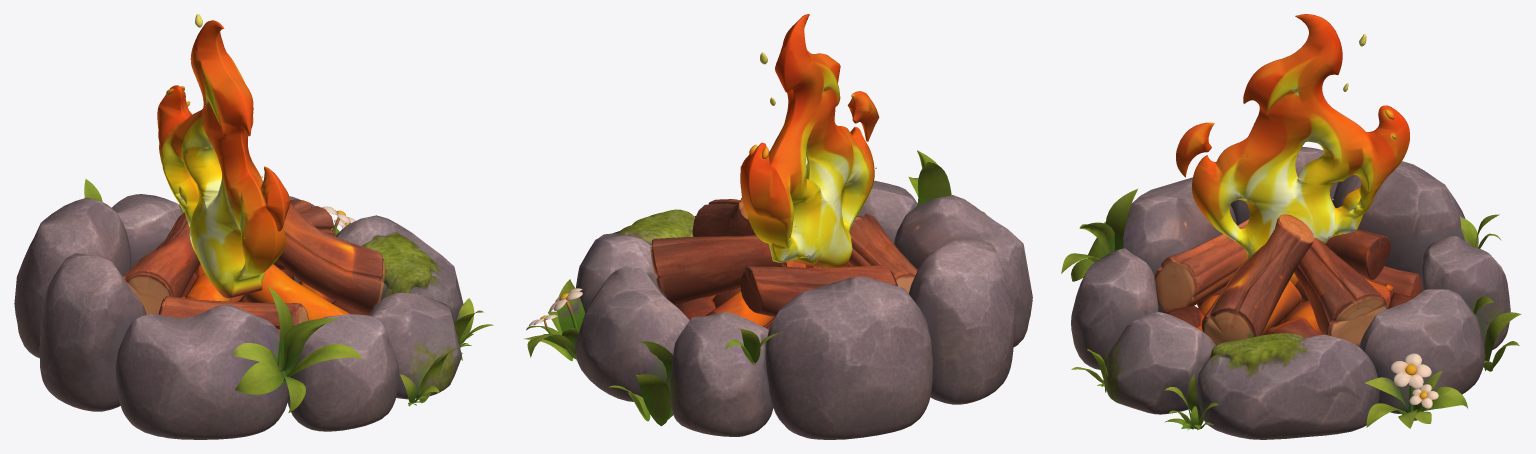
File: C15_campfire_lit.fbx
3 renders of one model, left to right at view 1: azimuth 30°, elevation 25°; view 2: azimuth 150°, elevation 25°; view 3: azimuth 270°, elevation 25°, orthographic. The views are drawn at different scales.
Visible parts, largest first — view 1: tripo_node_e68395de; view 2: tripo_node_e68395de; view 3: tripo_node_e68395de.
Boxes of the visible parts, x1,y1,x2,y2 form: tripo_node_e68395de: (14, 14, 493, 439); tripo_node_e68395de: (524, 14, 1032, 439); tripo_node_e68395de: (1061, 14, 1521, 439).
Bounding box in the file's own units: 0.9888 × 0.8013 × 0.9995.
